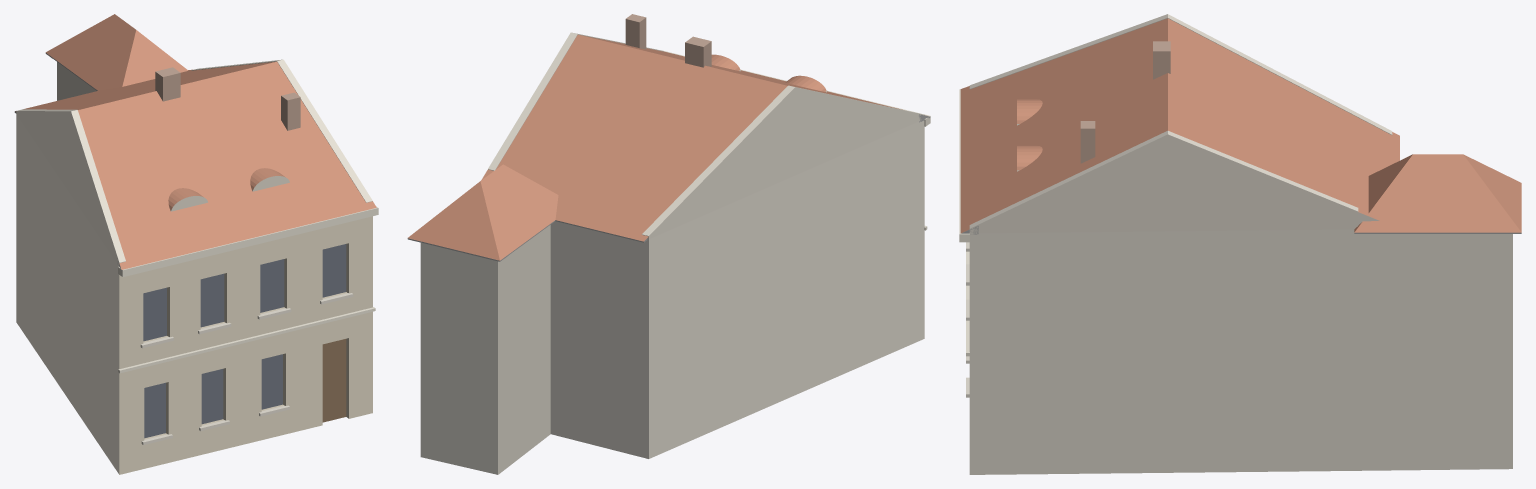
3 renders of one model, left to right at view 1: azimuth 30°, elevation 25°; view 2: azimuth 150°, elevation 25°; view 3: azimuth 270°, elevation 25°, orthographic. The views are drawn at different scales.
Parts seen in each view (by area): view 1: CP_770_Masonry, CP_770_Roof, CP_770_Roof_Gable_L_gable, CP_770_WingRoof_rear, CP_770_Cornice_main_eave_0, CP_770_Roof_Gable_R_gable, CP_770_Cornice_main_string_0, CP_770_Chimney_0, CP_770_Chimney_1, CP_770_Dormer_e1, CP_770_Dormer_e2; view 2: CP_770_Masonry, CP_770_Roof, CP_770_Roof_Gable_L_gable, CP_770_WingRoof_rear, CP_770_Roof_Gable_R_gable, CP_770_Chimney_0, CP_770_Chimney_1; view 3: CP_770_Masonry, CP_770_Roof, CP_770_Roof_Gable_R_gable, CP_770_WingRoof_rear, CP_770_Roof_Gable_L_gable, CP_770_Chimney_1, CP_770_Chimney_0.
Part boxes in pixels (x1=…): CP_770_Masonry: x1=16, y1=62, x2=372, y2=474; CP_770_Roof: x1=15, y1=61, x2=376, y2=269; CP_770_Roof_Gable_L_gable: x1=16, y1=109, x2=125, y2=265; CP_770_WingRoof_rear: x1=46, y1=14, x2=188, y2=90; CP_770_Cornice_main_eave_0: x1=118, y1=206, x2=378, y2=276; CP_770_Roof_Gable_R_gable: x1=191, y1=59, x2=372, y2=202; CP_770_Cornice_main_string_0: x1=118, y1=307, x2=375, y2=373; CP_770_Chimney_0: x1=155, y1=67, x2=180, y2=101; CP_770_Chimney_1: x1=281, y1=92, x2=300, y2=130; CP_770_Dormer_e1: x1=168, y1=188, x2=207, y2=211; CP_770_Dormer_e2: x1=250, y1=168, x2=289, y2=191; CP_770_Masonry: x1=420, y1=120, x2=924, y2=474; CP_770_Roof: x1=481, y1=34, x2=902, y2=241; CP_770_Roof_Gable_L_gable: x1=642, y1=85, x2=924, y2=239; CP_770_WingRoof_rear: x1=408, y1=164, x2=558, y2=260; CP_770_Roof_Gable_R_gable: x1=488, y1=32, x2=663, y2=170; CP_770_Chimney_0: x1=685, y1=36, x2=711, y2=67; CP_770_Chimney_1: x1=625, y1=14, x2=646, y2=49; CP_770_Masonry: x1=969, y1=229, x2=1512, y2=474; CP_770_Roof: x1=960, y1=18, x2=1399, y2=233; CP_770_Roof_Gable_R_gable: x1=969, y1=130, x2=1358, y2=233; CP_770_WingRoof_rear: x1=1354, y1=154, x2=1521, y2=232; CP_770_Roof_Gable_L_gable: x1=969, y1=14, x2=1392, y2=134; CP_770_Chimney_1: x1=1080, y1=121, x2=1095, y2=163; CP_770_Chimney_0: x1=1153, y1=41, x2=1170, y2=79.
Size of the model in its own units: 11.6 by 13.4 by 19.01.
